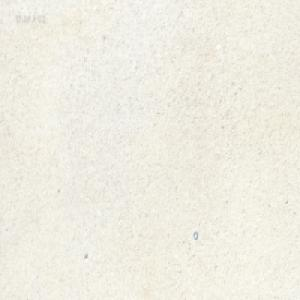Washer: (193, 231, 198, 240)
